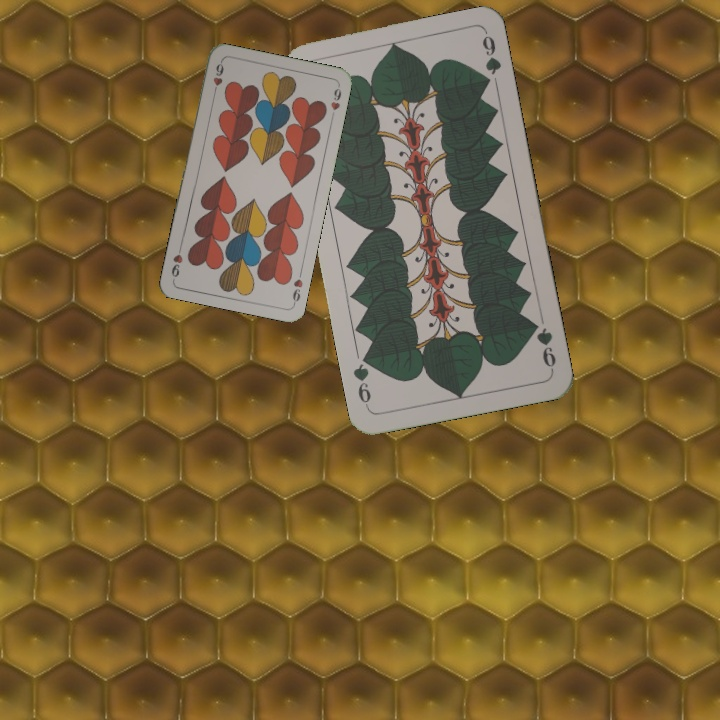G9: (527, 317, 559, 374)
H9: (209, 58, 226, 98), (288, 267, 305, 307)
